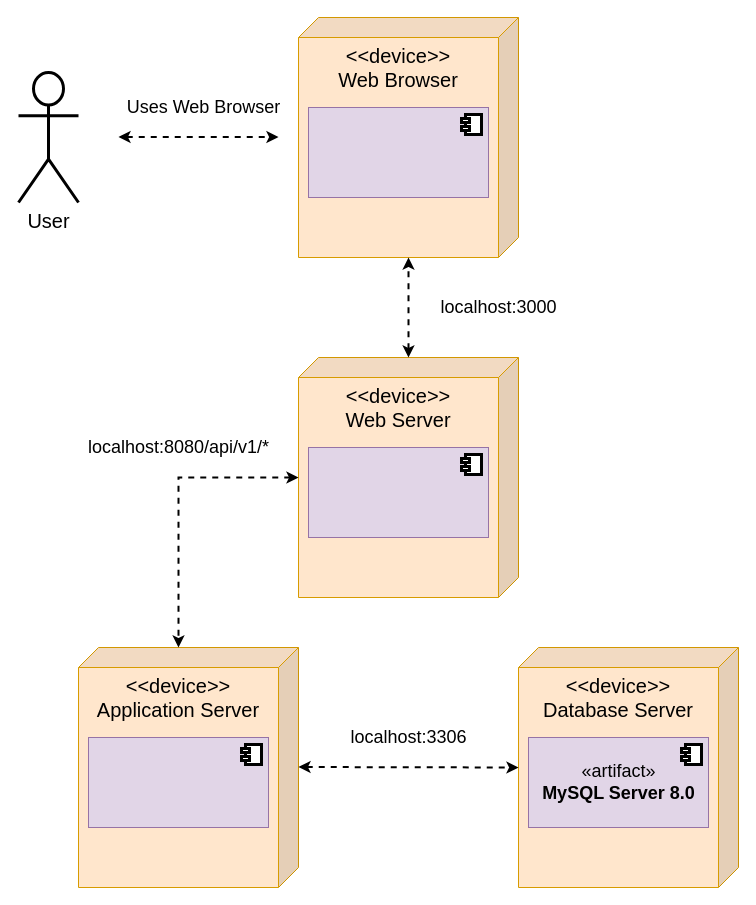
Image size: 756x905. Some labels were removed from this diagram. The shapes that lost their labels are listed below. From the top down, each one's box as (x1, y1, x2, y2) in pixels, then its label:
(308, 106, 488, 198): «artifact» page.js
(308, 446, 488, 538): «artifact» React Framework
(88, 736, 268, 828): «artifact» 614_project.jar
